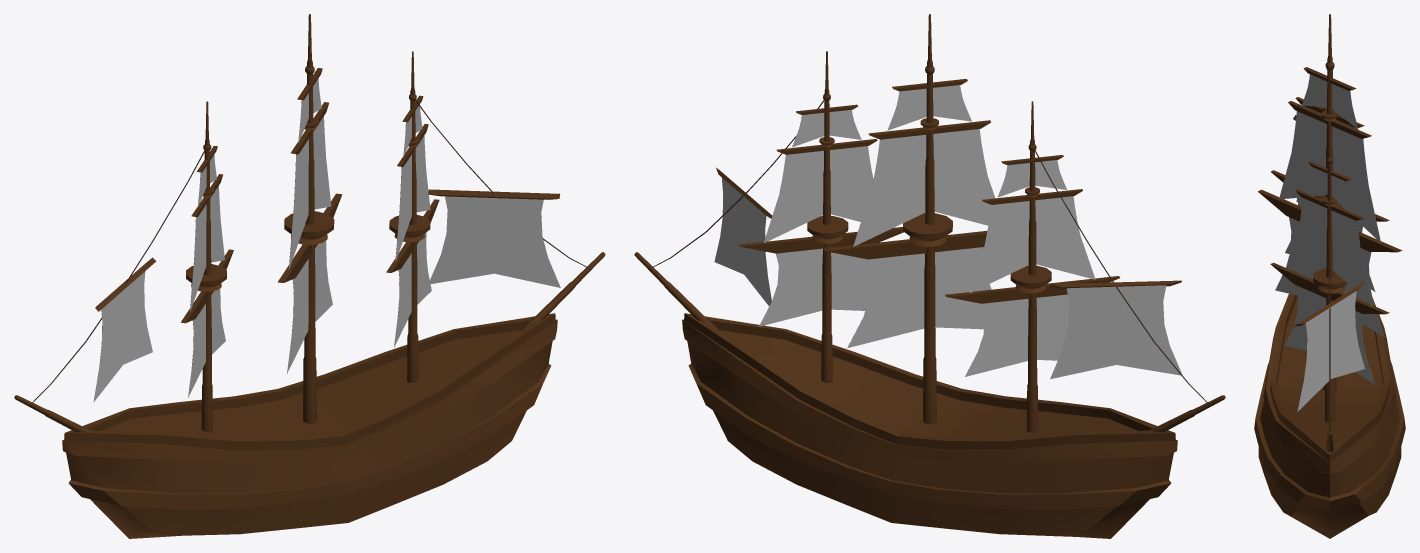
File: boat.FBX
The picture shows the model from 3 angles, left to right: view 1: azimuth 30°, elevation 25°; view 2: azimuth 150°, elevation 25°; view 3: azimuth 270°, elevation 25°; orthographic projection. The views are drawn at different scales.
Visible parts, largest first — view 1: 对象005; view 2: 对象005; view 3: 对象005.
Part boxes in pixels (x1=…): 对象005: x1=14, y1=14, x2=605, y2=538; 对象005: x1=634, y1=14, x2=1225, y2=538; 对象005: x1=1254, y1=14, x2=1405, y2=538.
Bounding box in the file's own units: 674 × 544 × 163.
